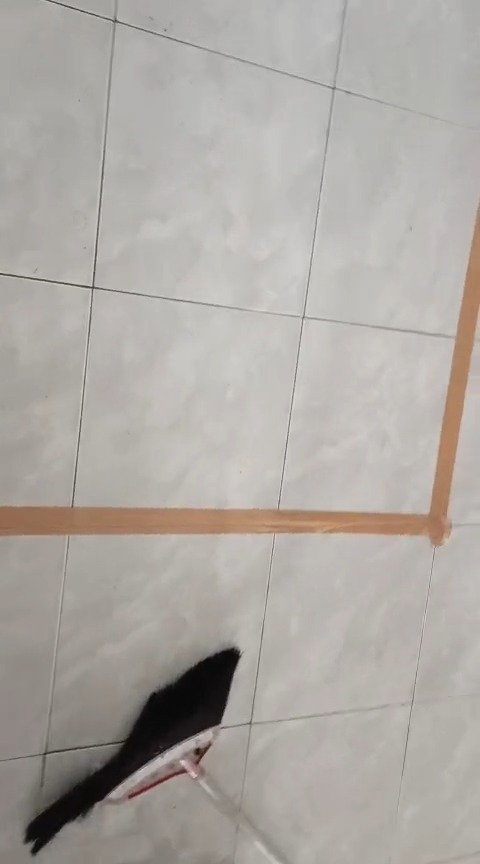floor marking: (0, 209, 479, 544)
